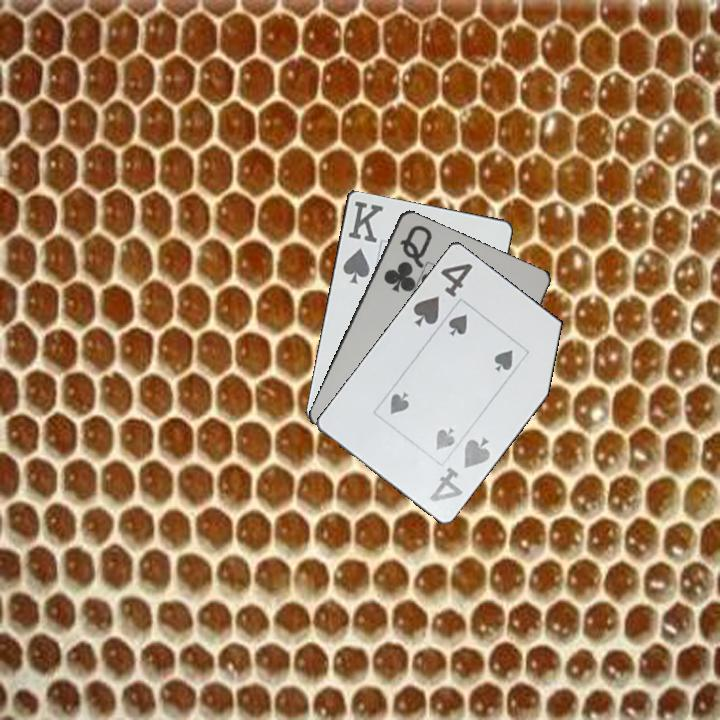4s: (426, 433, 493, 505), (408, 259, 476, 329)
Ks: (339, 197, 386, 287)
Qc: (380, 221, 435, 295)
